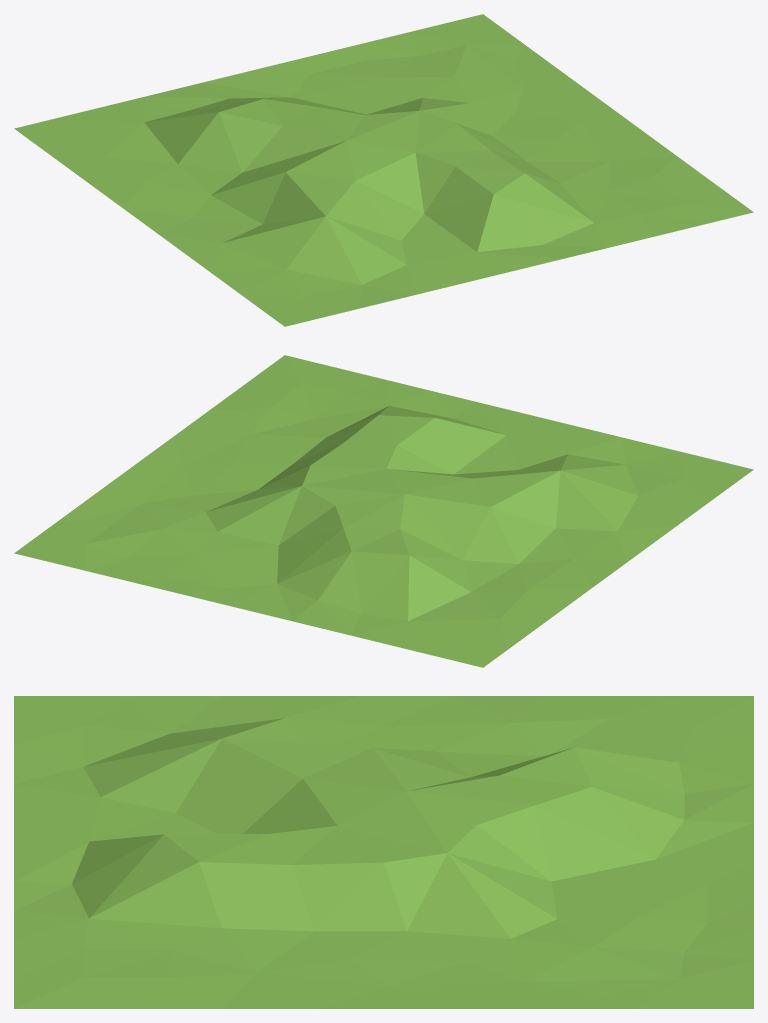
Rendered from MT_Terrain_S_c_14_LOD.fbx.
The picture shows the model from 3 angles, top to bottom: view 1: azimuth 30°, elevation 25°; view 2: azimuth 150°, elevation 25°; view 3: azimuth 270°, elevation 25°; orthographic projection. The views are drawn at different scales.
Parts seen in each view (by area): view 1: MT_Terrain_S_c_14_LOD0; view 2: MT_Terrain_S_c_14_LOD0; view 3: MT_Terrain_S_c_14_LOD0.
Boxes of the visible parts, <box> form: MT_Terrain_S_c_14_LOD0: <box>14,14,753,326</box>; MT_Terrain_S_c_14_LOD0: <box>14,355,753,667</box>; MT_Terrain_S_c_14_LOD0: <box>14,696,753,1008</box>.
Size of what is drawn, in the model's own units: 2500 by 164 by 2500.
